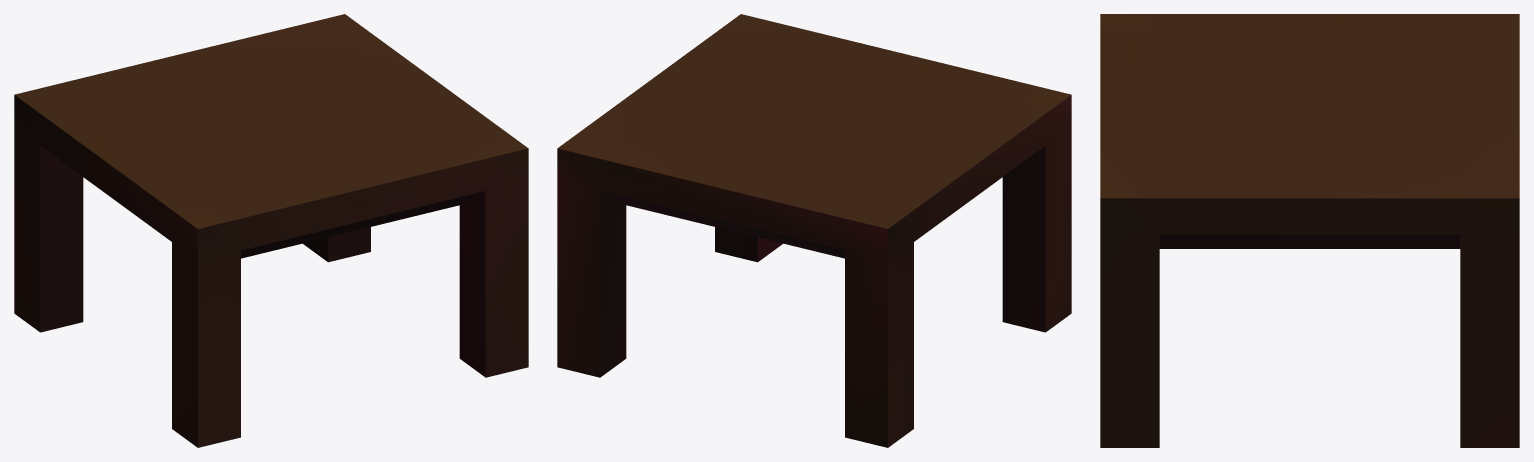
Rendered from end_table.FBX.
The picture shows the model from 3 angles, left to right: view 1: azimuth 30°, elevation 25°; view 2: azimuth 150°, elevation 25°; view 3: azimuth 270°, elevation 25°; orthographic projection. The views are drawn at different scales.
Parts seen in each view (by area): view 1: end table; view 2: end table; view 3: end table.
Boxes of the visible parts, x1,y1,x2,y2 form: end table: (14,14,528,447); end table: (557,14,1071,447); end table: (1100,14,1519,447).
Size of the model in its own units: 0.7081 by 0.4478 by 0.6812.
